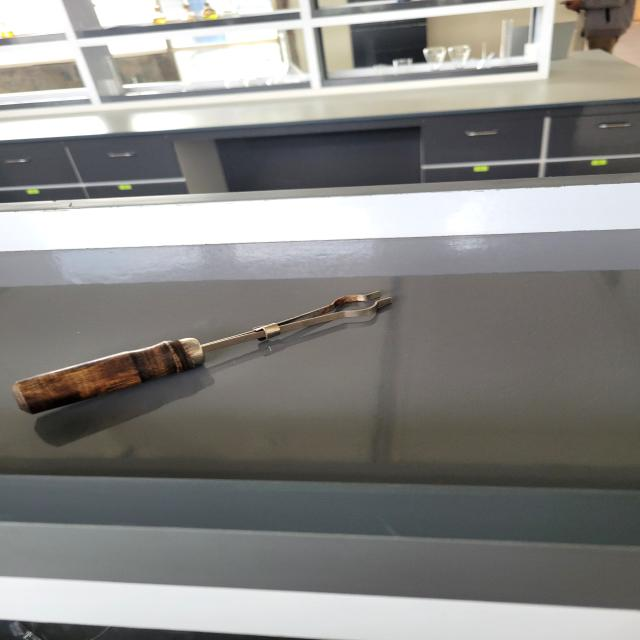TestTube_Holder: (7, 277, 447, 429)
